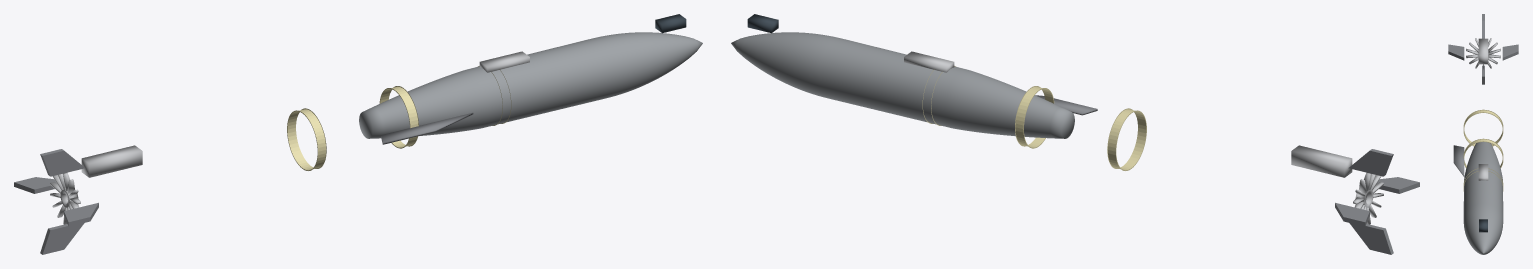
File: CN_TORP_Yu5_LOD0.fbx
3 views of the same model, side by side, from view 1: azimuth 30°, elevation 25°; view 2: azimuth 150°, elevation 25°; view 3: azimuth 270°, elevation 25° (orthographic). The views are drawn at different scales.
Visible parts, largest first — view 1: WPN_CN_TORP_Yu5_LOD0_Body, WPN_CN_TORP_Yu5_LOD0_Detail, WPN_CN_TORP_Yu5_LOD0_Fins, WPN_CN_TORP_Yu5_LOD0_Marking, WPN_CN_TORP_Yu5_LOD0_Propulsor, WPN_CN_TORP_Yu5_LOD0_Seeker; view 2: WPN_CN_TORP_Yu5_LOD0_Body, WPN_CN_TORP_Yu5_LOD0_Fins, WPN_CN_TORP_Yu5_LOD0_Detail, WPN_CN_TORP_Yu5_LOD0_Marking, WPN_CN_TORP_Yu5_LOD0_Propulsor, WPN_CN_TORP_Yu5_LOD0_Seeker; view 3: WPN_CN_TORP_Yu5_LOD0_Body, WPN_CN_TORP_Yu5_LOD0_Detail, WPN_CN_TORP_Yu5_LOD0_Marking, WPN_CN_TORP_Yu5_LOD0_Fins, WPN_CN_TORP_Yu5_LOD0_Propulsor, WPN_CN_TORP_Yu5_LOD0_Seeker.
Boxes of the visible parts, x1=… form: WPN_CN_TORP_Yu5_LOD0_Body: x1=359, y1=32, x2=702, y2=138; WPN_CN_TORP_Yu5_LOD0_Detail: x1=81, y1=51, x2=529, y2=177; WPN_CN_TORP_Yu5_LOD0_Fins: x1=14, y1=149, x2=98, y2=254; WPN_CN_TORP_Yu5_LOD0_Marking: x1=287, y1=66, x2=511, y2=170; WPN_CN_TORP_Yu5_LOD0_Propulsor: x1=50, y1=173, x2=80, y2=224; WPN_CN_TORP_Yu5_LOD0_Seeker: x1=655, y1=14, x2=686, y2=33; WPN_CN_TORP_Yu5_LOD0_Body: x1=731, y1=32, x2=1074, y2=138; WPN_CN_TORP_Yu5_LOD0_Fins: x1=1335, y1=149, x2=1419, y2=254; WPN_CN_TORP_Yu5_LOD0_Detail: x1=904, y1=51, x2=1352, y2=177; WPN_CN_TORP_Yu5_LOD0_Marking: x1=922, y1=66, x2=1146, y2=170; WPN_CN_TORP_Yu5_LOD0_Propulsor: x1=1353, y1=173, x2=1383, y2=224; WPN_CN_TORP_Yu5_LOD0_Seeker: x1=747, y1=14, x2=778, y2=33; WPN_CN_TORP_Yu5_LOD0_Body: x1=1463, y1=142, x2=1503, y2=254; WPN_CN_TORP_Yu5_LOD0_Detail: x1=1453, y1=38, x2=1488, y2=180; WPN_CN_TORP_Yu5_LOD0_Marking: x1=1463, y1=109, x2=1503, y2=191; WPN_CN_TORP_Yu5_LOD0_Fins: x1=1448, y1=14, x2=1518, y2=84; WPN_CN_TORP_Yu5_LOD0_Propulsor: x1=1466, y1=38, x2=1500, y2=70; WPN_CN_TORP_Yu5_LOD0_Seeker: x1=1479, y1=219, x2=1487, y2=232.
Bounding box in the file's own units: 6.62 × 0.9466 × 0.9466.
